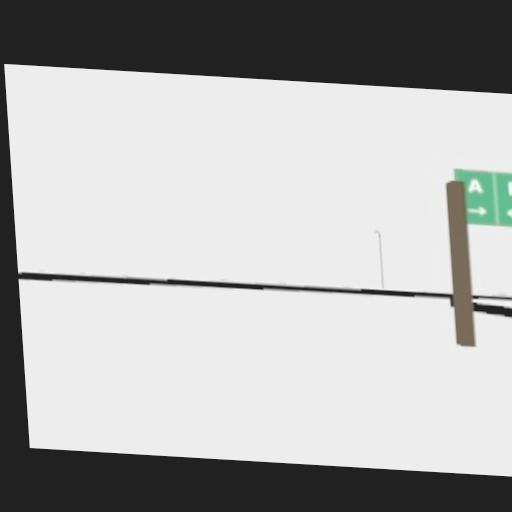A: (467, 178, 482, 193)
B: (506, 180, 512, 195)
Left: (504, 209, 512, 219)
Right: (465, 206, 488, 217)
